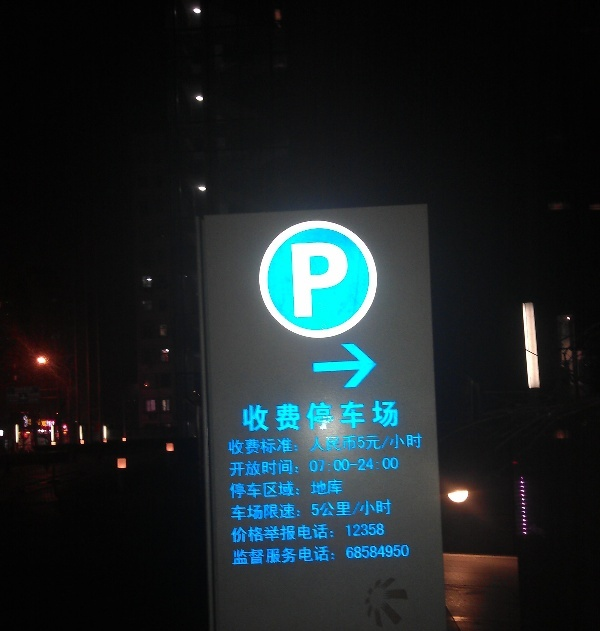text: (289, 243, 304, 318), (305, 243, 320, 318), (321, 243, 336, 318), (337, 243, 350, 318), (241, 398, 256, 435), (257, 398, 272, 435), (273, 398, 288, 435), (289, 398, 304, 435), (305, 398, 320, 435), (321, 398, 336, 435), (337, 398, 352, 435), (353, 398, 368, 435), (369, 398, 384, 435), (385, 398, 400, 435), (241, 431, 256, 457), (257, 431, 272, 457), (273, 431, 288, 457), (289, 431, 304, 457), (305, 431, 320, 457), (321, 431, 336, 457), (337, 431, 352, 457), (353, 431, 368, 457), (369, 431, 384, 457), (385, 431, 400, 457), (401, 431, 416, 457), (241, 542, 256, 568), (257, 542, 272, 568), (273, 542, 288, 568), (289, 542, 304, 568), (305, 542, 320, 568), (321, 542, 336, 568), (337, 542, 352, 568), (353, 542, 368, 568), (369, 542, 384, 568), (385, 542, 400, 568), (385, 454, 401, 478), (241, 454, 256, 478), (257, 454, 272, 478), (273, 454, 288, 478), (289, 454, 304, 478), (305, 454, 320, 478), (321, 454, 336, 478), (337, 454, 352, 478), (353, 454, 368, 478), (369, 454, 384, 478), (241, 498, 256, 522), (257, 498, 272, 522), (273, 498, 288, 522), (289, 498, 304, 522), (305, 498, 320, 522), (321, 498, 336, 522), (337, 498, 352, 522), (353, 498, 368, 522), (369, 498, 384, 522), (241, 520, 256, 543), (257, 520, 272, 543), (273, 520, 288, 543), (289, 520, 304, 543), (305, 520, 320, 543), (321, 520, 336, 543), (337, 520, 352, 543), (353, 520, 368, 543), (369, 520, 384, 543), (227, 431, 240, 457), (241, 478, 256, 500), (257, 478, 272, 500), (273, 478, 288, 500), (289, 478, 304, 500), (305, 478, 320, 500), (321, 478, 336, 500), (401, 542, 413, 568), (228, 454, 240, 478), (230, 542, 240, 568), (229, 478, 240, 500), (230, 498, 240, 522), (417, 431, 426, 457), (230, 520, 240, 543), (337, 478, 347, 500), (385, 498, 393, 522), (385, 520, 388, 543), (401, 398, 402, 435)
